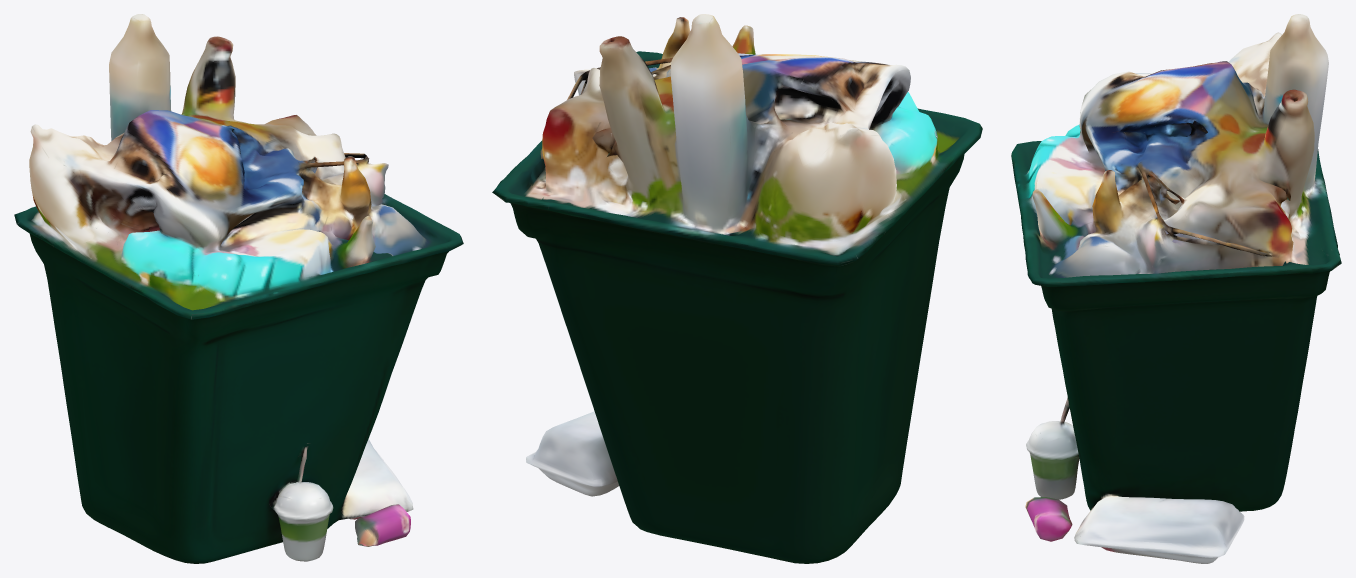
File: TrashBin.fbx
3 views of the same model, side by side, from view 1: azimuth 30°, elevation 25°; view 2: azimuth 150°, elevation 25°; view 3: azimuth 270°, elevation 25° (orthographic). The views are drawn at different scales.
Visible parts, largest first — view 1: model; view 2: model; view 3: model.
Boxes of the visible parts, x1=… form: model: x1=14, y1=14, x2=463, y2=563; model: x1=492, y1=14, x2=982, y2=563; model: x1=1011, y1=14, x2=1341, y2=563.
Bounding box in the file's own units: 137 × 191 × 122.
